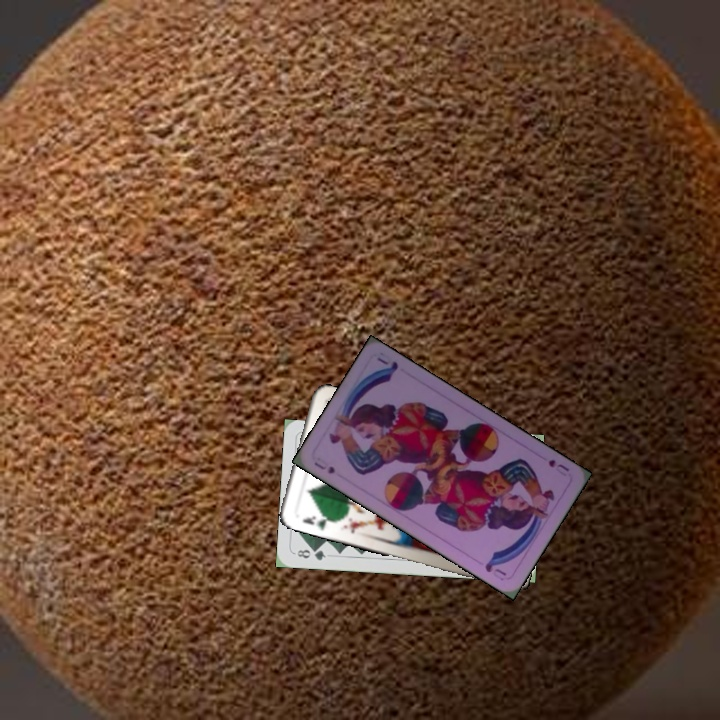G8: (293, 545, 328, 563)
GK: (299, 512, 333, 533)
SU: (544, 455, 572, 479), (310, 458, 338, 477)
